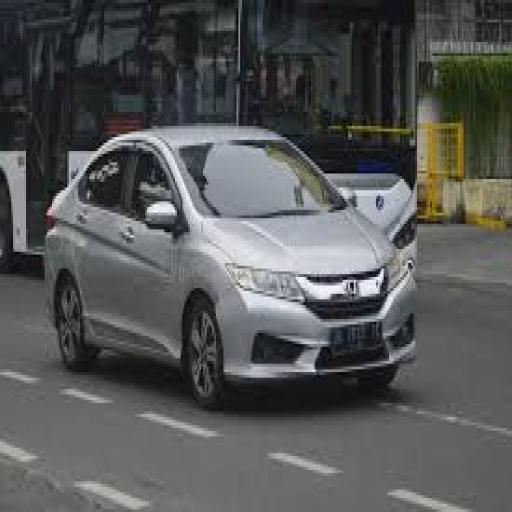License: (330, 322, 390, 358)
